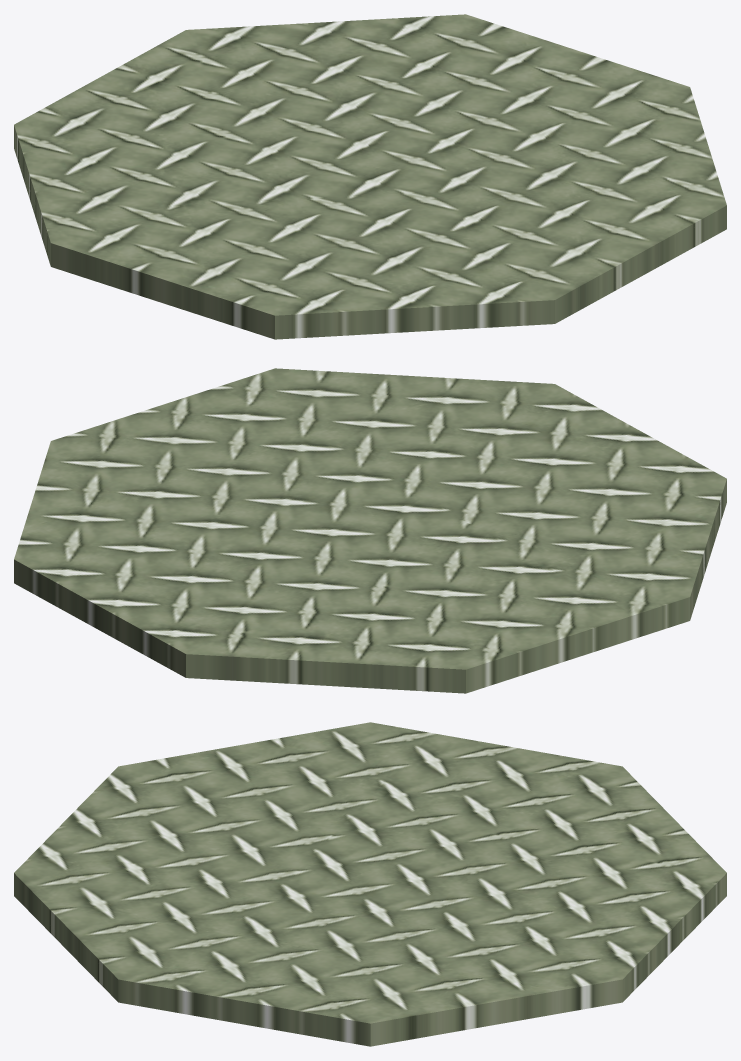
The model's file is FallAway_center.fbx.
The picture shows the model from 3 angles, top to bottom: view 1: azimuth 30°, elevation 25°; view 2: azimuth 150°, elevation 25°; view 3: azimuth 270°, elevation 25°; orthographic projection. The views are drawn at different scales.
Parts seen in each view (by area): view 1: FallAway_Center; view 2: FallAway_Center; view 3: FallAway_Center.
Boxes of the visible parts, bbox=[...] form: FallAway_Center: bbox=[14, 14, 726, 339]; FallAway_Center: bbox=[14, 368, 726, 693]; FallAway_Center: bbox=[14, 722, 726, 1046].
Size of the model in its own units: 14 by 0.5 by 14.
